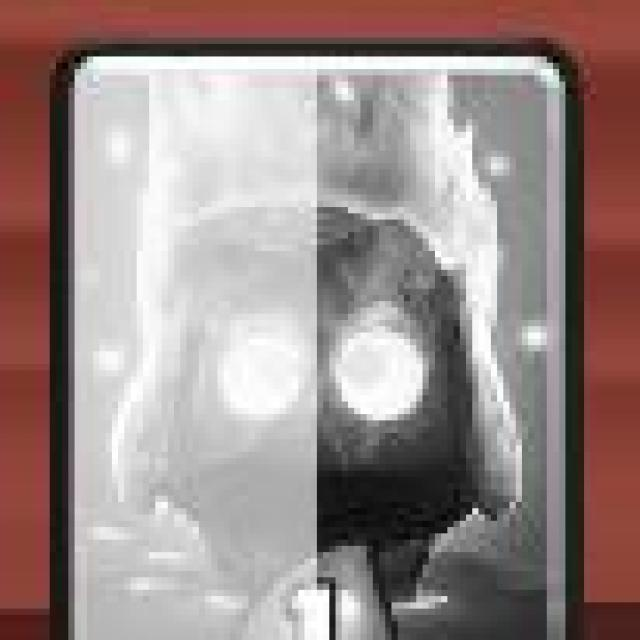Fire_Spirit: (45, 39, 588, 640)
